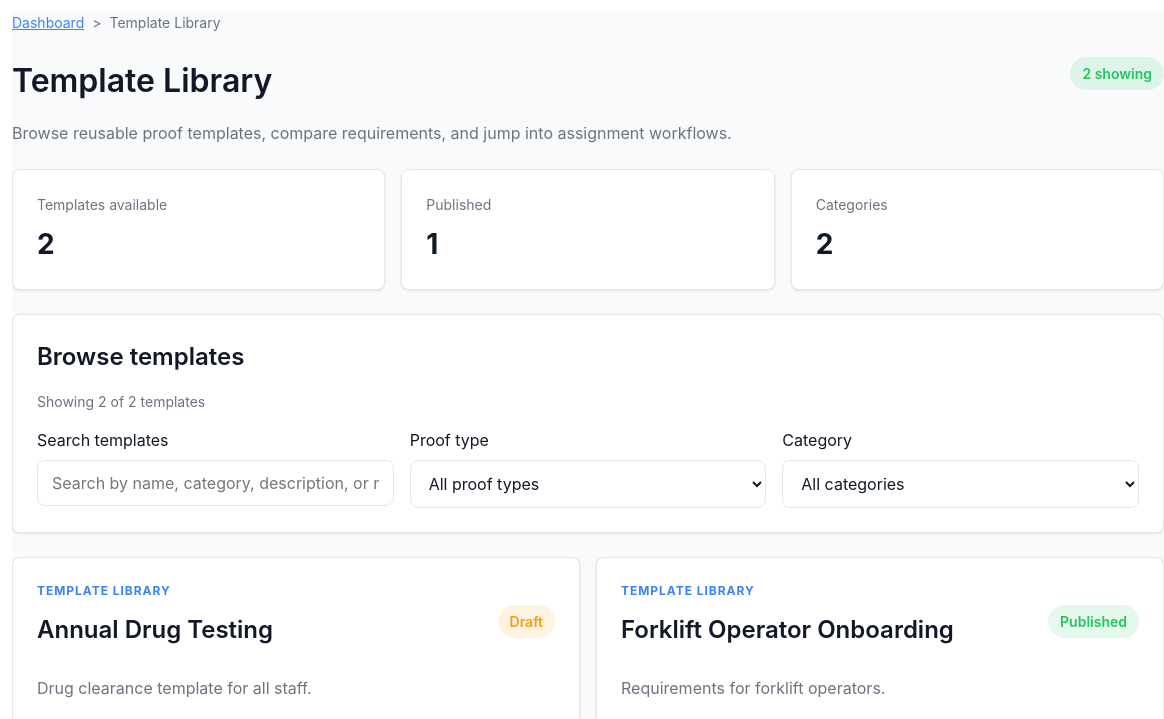
Test: TemplateLibraryPage › filters templates by proof type
Expected: the heading "Forklift Operator Onboarding" is shown, [621, 612, 954, 648]
Select "Clearance" in the dropdown labelled "Proof type" at (588, 484), box [410, 460, 766, 508]
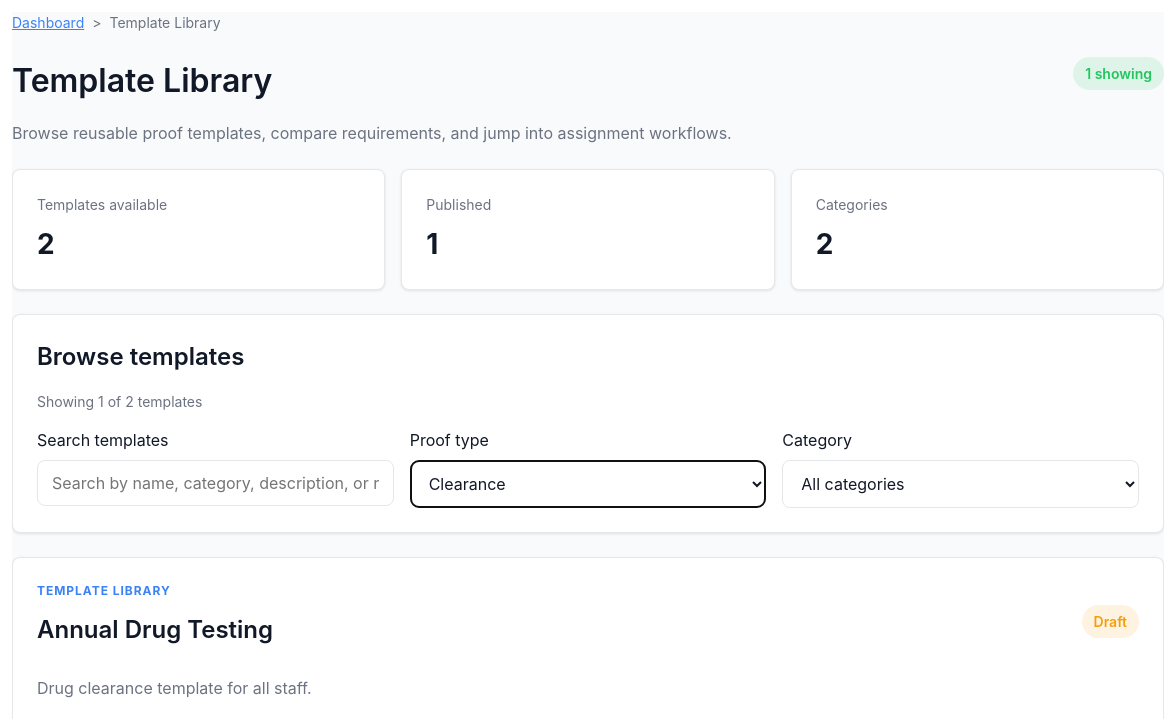
Expected: the heading "Annual Drug Testing" is shown, [37, 612, 273, 648]
Now the link "Forklift Operator Onboarding" is gone
